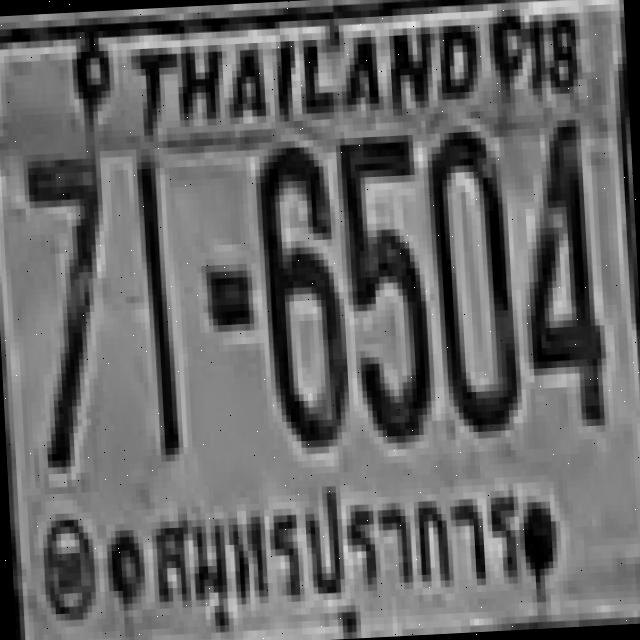0: (422, 124, 518, 428)
1: (132, 154, 179, 450)
4: (516, 112, 604, 422)
5: (336, 128, 432, 438)
6: (254, 142, 347, 446)
7: (22, 151, 112, 468)
SamutPrakan: (140, 458, 527, 631)
